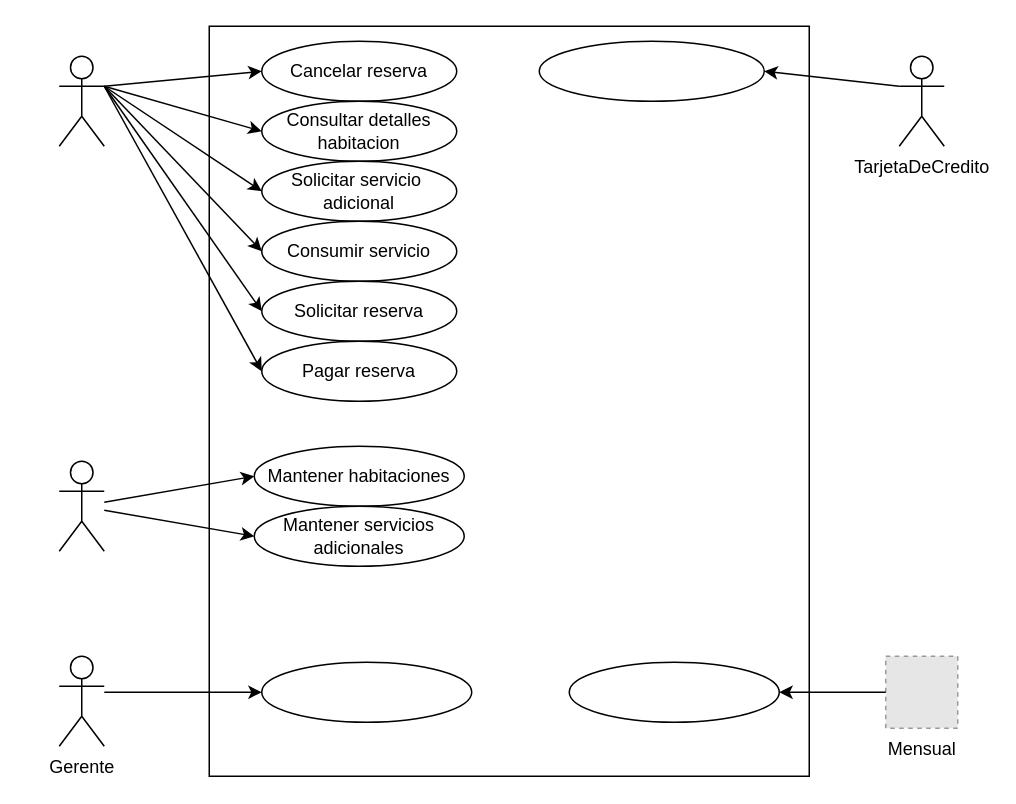
Some shapes in this 1016 by 804 pixel diagram are drawn without their labels. Grey dashed boxes stand in for pictures. Each missing label, with the centre of its shape:
"Administrador" goes at (81,505).
"Cliente" goes at (81,100).
"Generar reporte" goes at (673,691).
"Solicitar reporte" goes at (366,691).
"Validar datos" goes at (651,70).
